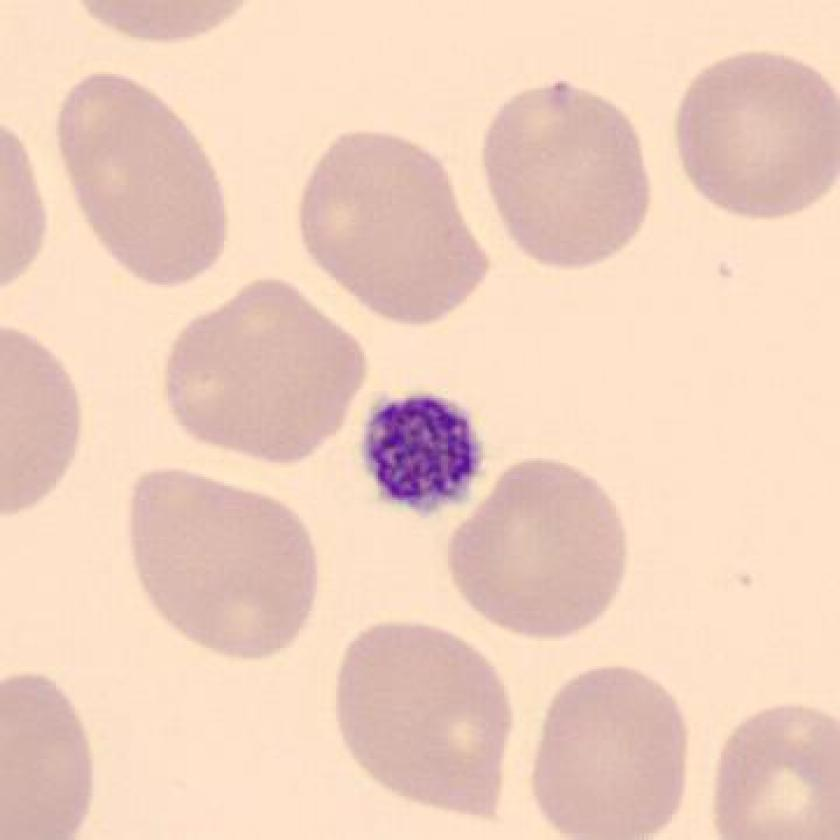platelets: (358, 383, 493, 529)
